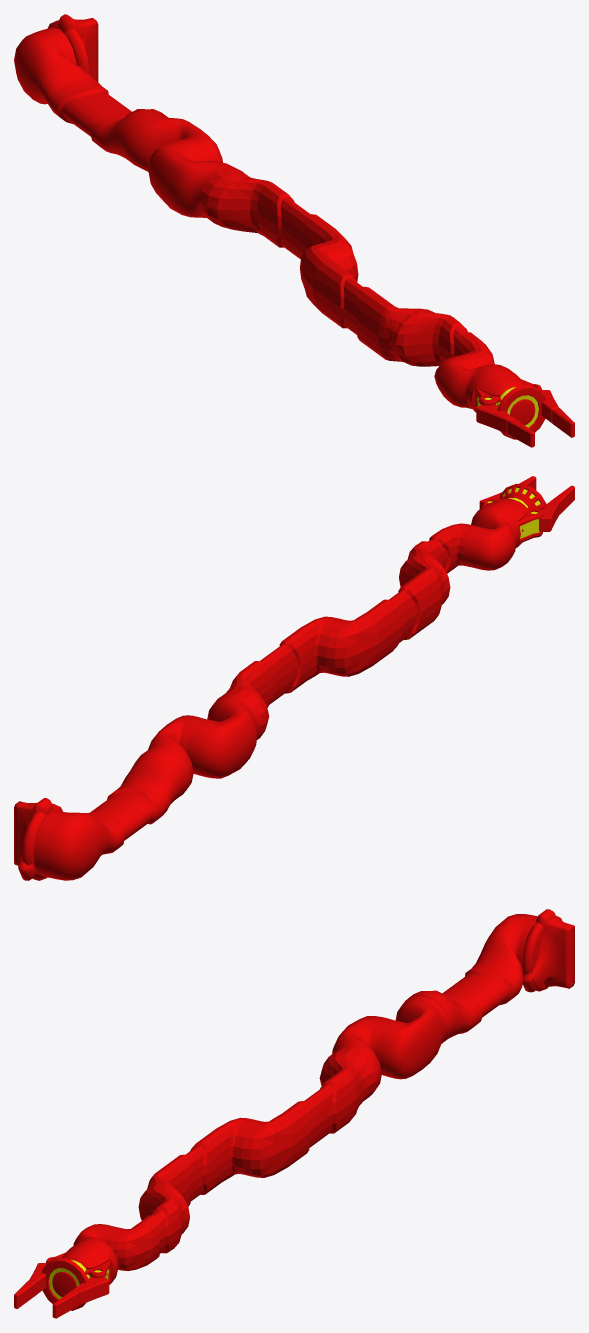
The model's file is robot_arm_grp.fbx.
3 renders of one model, top to bottom at view 1: azimuth 30°, elevation 25°; view 2: azimuth 150°, elevation 25°; view 3: azimuth 330°, elevation 25°, orthographic. The views are drawn at different scales.
Parts seen in each view (by area): view 1: robot_root, robot_elbow_1, robot_elbow_2, robot_wrist_1, robot_shoulder_2, robot_shoulder_1, robot_wrist_2, robot_magnet_hand, robot_gripper_hand, robot_gripper_finger_r_1; view 2: robot_root, robot_elbow_2, robot_elbow_1, robot_shoulder_2, robot_wrist_2, robot_wrist_1, robot_shoulder_1, robot_gripper_hand, robot_magnet_hand; view 3: robot_root, robot_elbow_1, robot_shoulder_1, robot_elbow_2, robot_wrist_1, robot_shoulder_2, robot_magnet_hand, robot_gripper_hand, robot_wrist_2, robot_gripper_finger_l_1.
Boxes of the visible parts, box(x1,y1,x2,y2) form: robot_root: box(14, 14, 167, 162); robot_elbow_1: box(200, 169, 358, 281); robot_elbow_2: box(300, 243, 433, 361); robot_wrist_1: box(394, 311, 494, 367); robot_shoulder_2: box(148, 139, 243, 217); robot_shoulder_1: box(124, 114, 222, 171); robot_wrist_2: box(434, 353, 509, 412); robot_magnet_hand: box(472, 367, 545, 439); robot_gripper_hand: box(470, 367, 541, 411); robot_gripper_finger_r_1: box(476, 404, 514, 433); robot_root: box(14, 747, 188, 880); robot_elbow_2: box(322, 556, 448, 676); robot_elbow_1: box(221, 616, 341, 739); robot_shoulder_2: box(187, 694, 260, 778); robot_wrist_2: box(463, 505, 519, 570); robot_wrist_1: box(407, 523, 476, 604); robot_shoulder_1: box(148, 715, 205, 795); robot_gripper_hand: box(481, 498, 542, 547); robot_magnet_hand: box(488, 483, 546, 543); robot_root: box(408, 909, 574, 1042); robot_elbow_1: box(238, 1048, 376, 1177); robot_shoulder_1: box(375, 995, 449, 1079); robot_elbow_2: box(147, 1117, 256, 1233); robot_wrist_1: box(107, 1186, 188, 1270); robot_shoulder_2: box(332, 1016, 393, 1095); robot_magnet_hand: box(42, 1240, 112, 1310); robot_gripper_hand: box(46, 1241, 114, 1283); robot_wrist_2: box(73, 1224, 118, 1284); robot_gripper_finger_l_1: box(72, 1277, 109, 1305).
Size of the model in its own units: 10.98 by 9.78 by 119.
